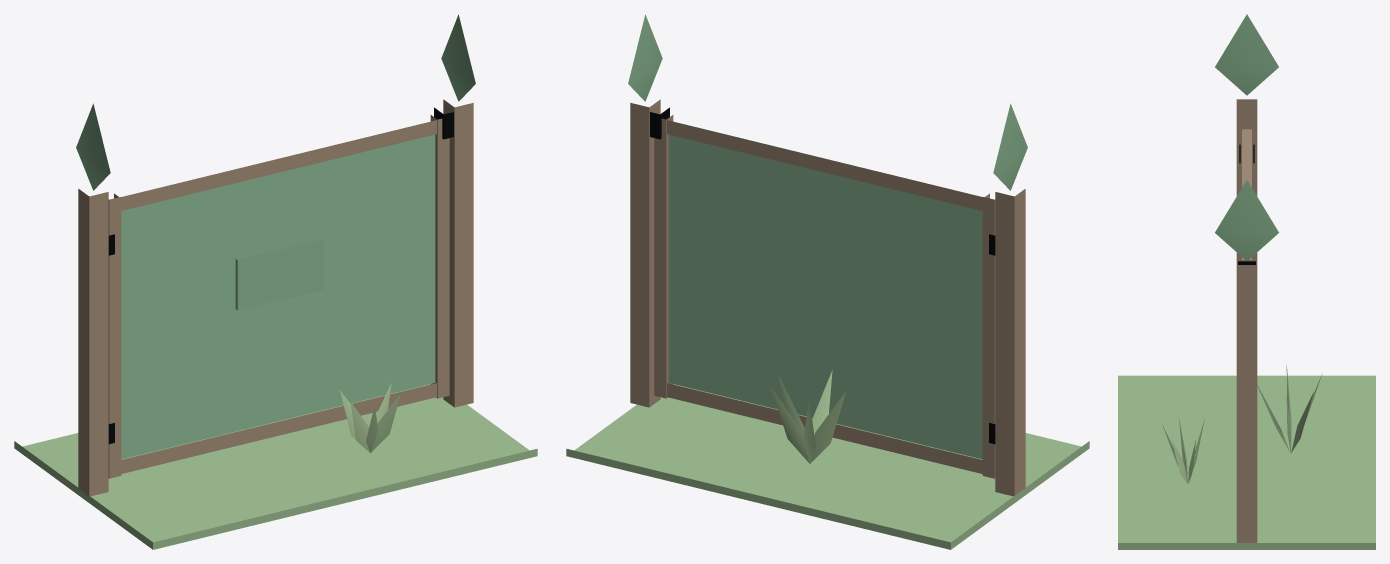
File: v3_gate.glb
3 renders of one model, left to right at view 1: azimuth 30°, elevation 25°; view 2: azimuth 150°, elevation 25°; view 3: azimuth 270°, elevation 25°, orthographic. The views are drawn at different scales.
Parts seen in each view (by area): view 1: Gate_Infill, Safety_Pad, Posts, Gate_Rails, Gate_Frame, Gate_Sign, Leaf_Crests, Grass_Tufts; view 2: Gate_Infill, Safety_Pad, Posts, Gate_Rails, Gate_Frame, Leaf_Crests, Grass_Tufts; view 3: Safety_Pad, Posts, Leaf_Crests, Grass_Tufts, Gate_Rails, Gate_Frame.
Boxes of the visible parts, bbox=[...] form: Gate_Infill: bbox=[121, 134, 435, 459]; Safety_Pad: bbox=[14, 384, 537, 549]; Posts: bbox=[78, 99, 473, 496]; Gate_Rails: bbox=[114, 120, 436, 473]; Gate_Frame: bbox=[108, 115, 449, 478]; Gate_Sign: bbox=[235, 239, 323, 310]; Leaf_Crests: bbox=[76, 14, 475, 190]; Grass_Tufts: bbox=[340, 383, 400, 452]; Gate_Infill: bbox=[668, 134, 982, 459]; Safety_Pad: bbox=[566, 384, 1089, 549]; Posts: bbox=[630, 99, 1025, 496]; Gate_Rails: bbox=[667, 120, 989, 473]; Gate_Frame: bbox=[654, 115, 995, 478]; Leaf_Crests: bbox=[628, 14, 1027, 190]; Grass_Tufts: bbox=[770, 370, 846, 463]; Safety_Pad: bbox=[1118, 375, 1375, 549]; Posts: bbox=[1236, 99, 1257, 542]; Leaf_Crests: bbox=[1215, 14, 1278, 260]; Grass_Tufts: bbox=[1162, 365, 1322, 484]; Gate_Rails: bbox=[1242, 129, 1251, 261]; Gate_Frame: bbox=[1240, 115, 1253, 261].
Size of what is drawn, in the model's own units: 1.6 by 1.57 by 1.
Materials: 6 (1 with a texture image).
